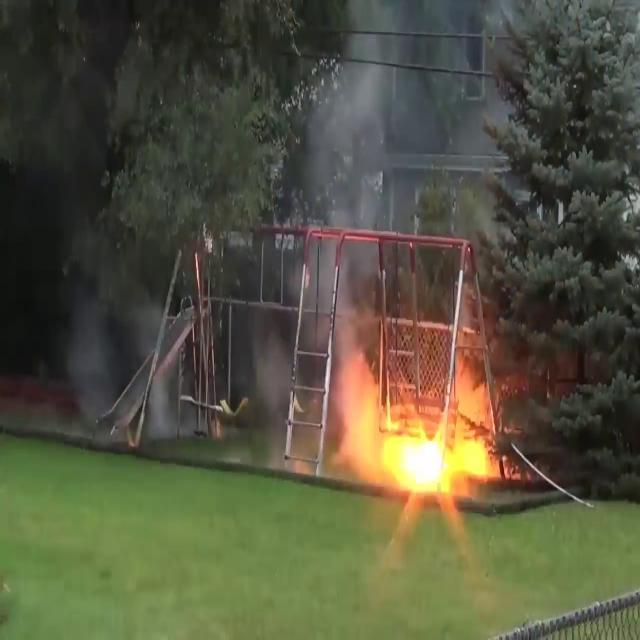Fire: (340, 352, 504, 504)
Smoke: (0, 7, 166, 429), (292, 0, 510, 244)
